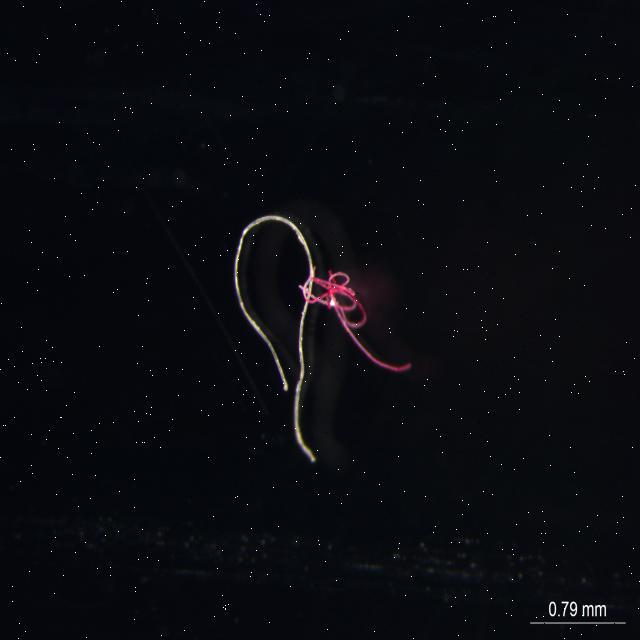fiber: (225, 201, 414, 473)
